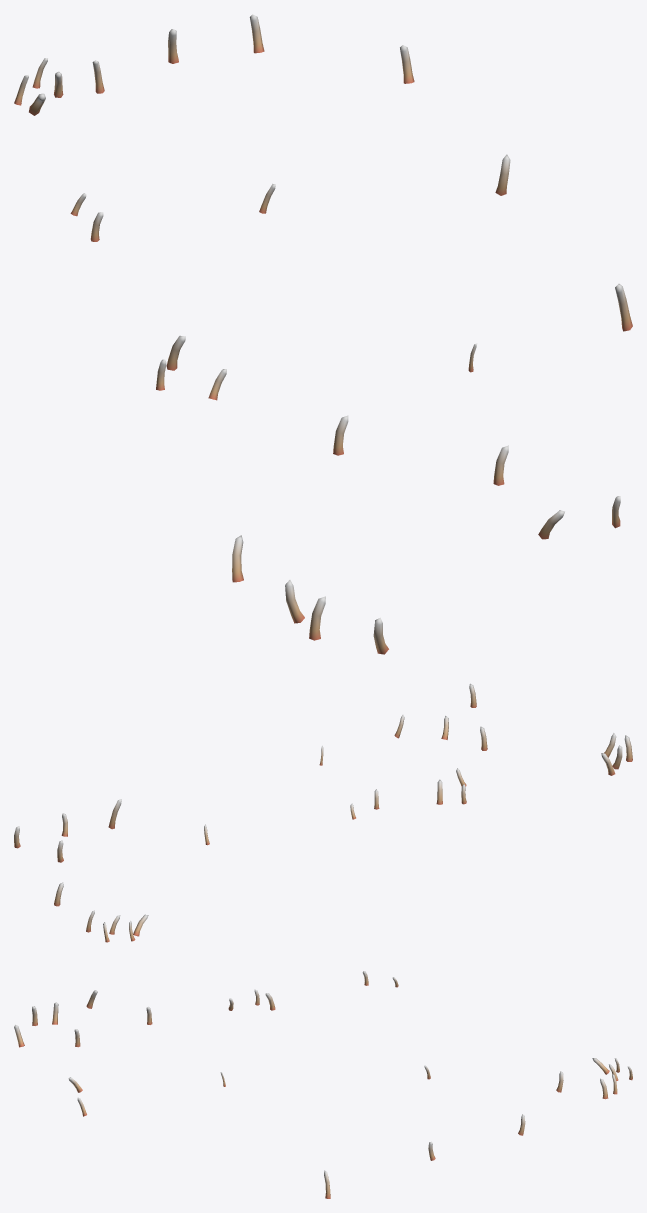
The model's file is MSH_Palm_trunks.FBX.
3 renders of one model, top to bottom at view 1: azimuth 30°, elevation 25°; view 2: azimuth 150°, elevation 25°; view 3: azimuth 270°, elevation 25°, orthographic. The views are drawn at different scales.
Parts seen in each view (by area): view 1: Palm_trunks; view 2: Palm_trunks; view 3: Palm_trunks.
Boxes of the visible parts, box(x1,y1,x2,y2) form: Palm_trunks: box(14, 14, 632, 654); Palm_trunks: box(14, 683, 632, 942); Palm_trunks: box(14, 971, 632, 1198).
Bounding box in the file's own units: 40.29 × 12.84 × 67.12.
